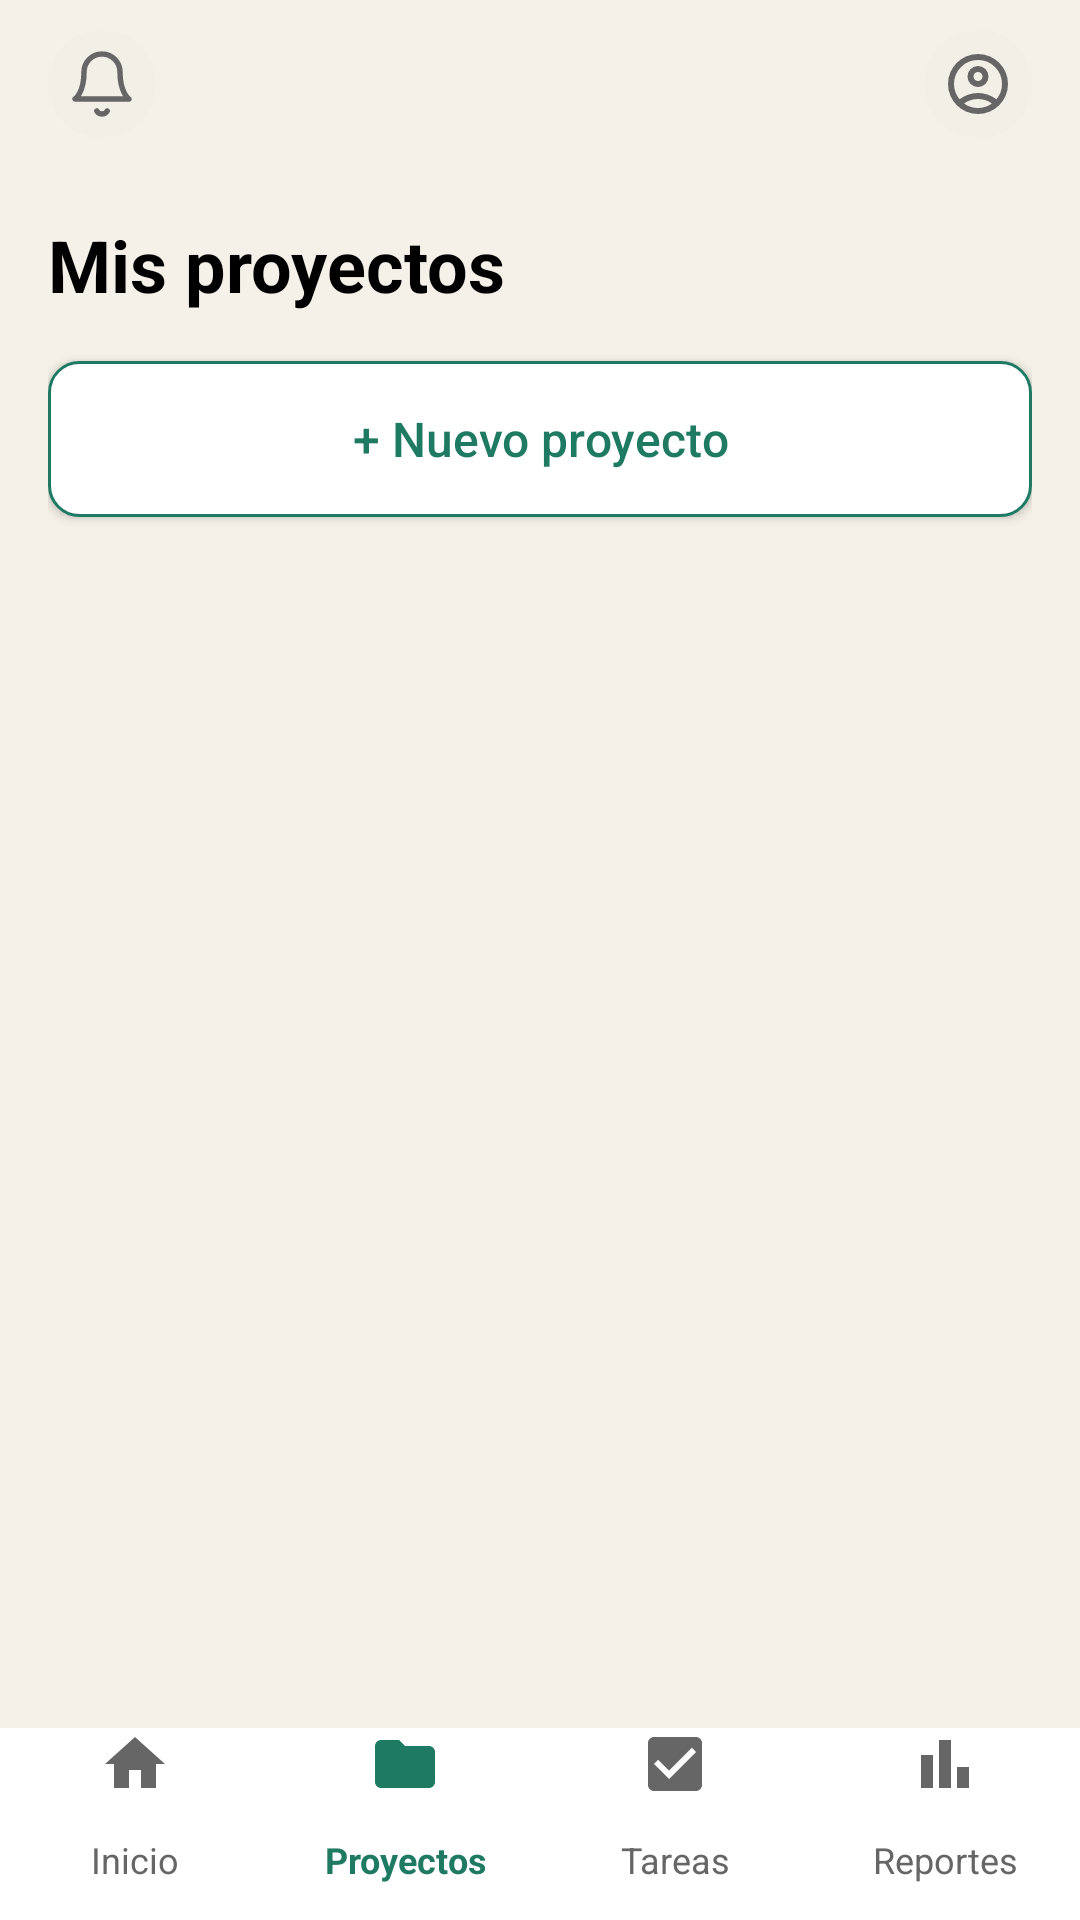

Where to tap for icons on this 1080*1920 app screen, as [x,y]:
notificacion: [102,84]
perfil: [978,84]
